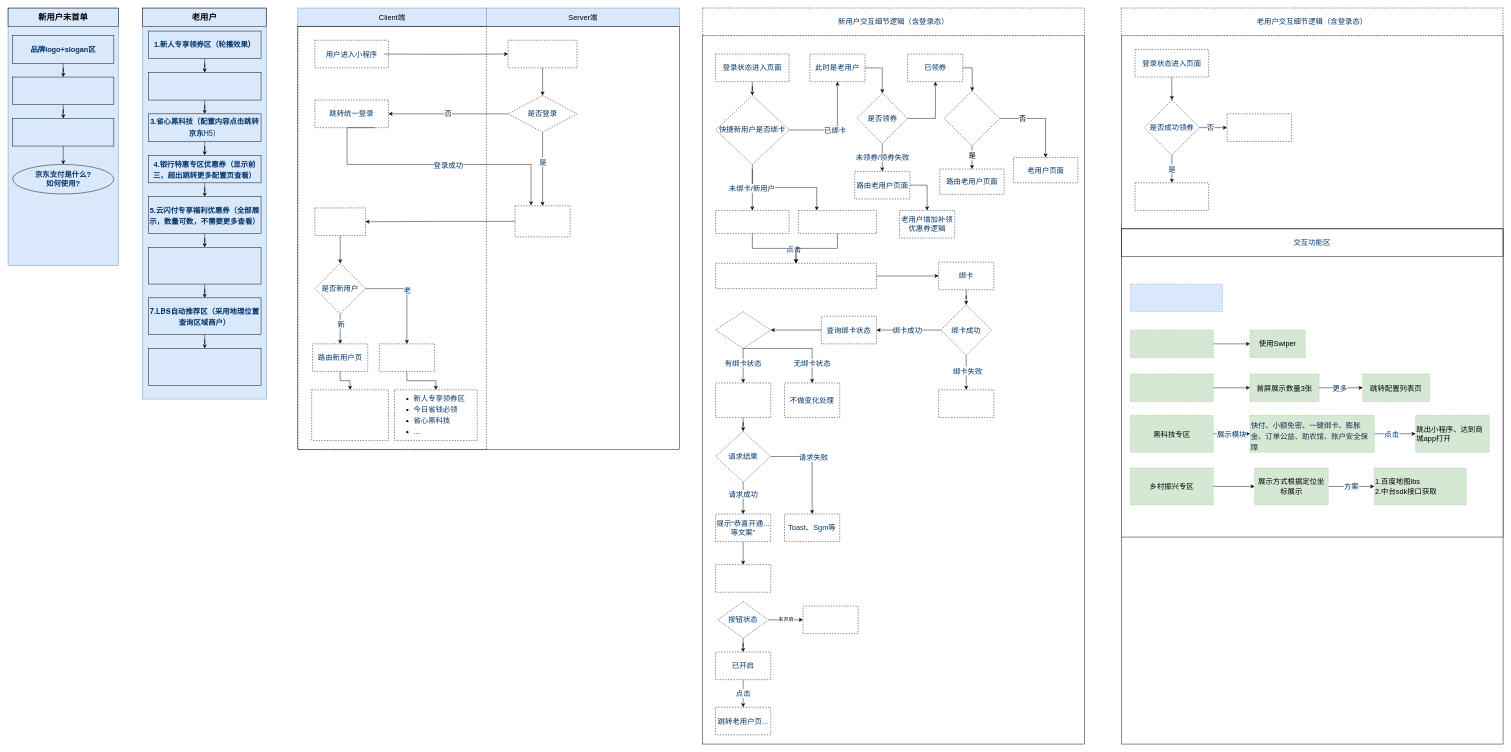
Image size: 1511x752. Some labels were removed from this diagram. Here are the shapes that lost their labels. From the top down, the centre of each, then its label:
At point 542,54: "校验是否登录".
At point 63,91: "引导开启京东支付".
At point 204,86: "2.今日省钱必领（左右滑动，分两行，每行 /6 列，超出查看更多）".
At point 63,132: "京东支付介绍页".
At point 972,118: "是否首单支付".
At point 1259,127: "补领优惠券模块".
At point 1172,196: "展示领取的优惠券".
At point 339,221: "获取用户标识".
At point 542,221: "下发用户标识".
At point 752,221: "展示“立即开启”按钮".
At point 837,221: "优惠券状态(开启领取)".
At point 204,265: "6.乡村振兴专区（广告轮播图）".
At point 796,276: "跳转绑卡页,引导开卡".
At point 1176,298: "图片加载方式（懒加载）".
At point 743,329: "是否绑卡成功".
At point 1171,344: "Banner图".
At point 204,366: "8.京东支付笔笔返京豆（广告轮播图）".
At point 406,357: "路由老用户页".
At point 743,399: "调用发放接口优惠券接口、按钮改为“已开启”".
At point 966,403: "绑卡页兜底处理".
At point 1171,388: "优惠券专区（银行优惠券、云闪付优惠券）".
At point 349,414: "品牌介绍 引导开启 京东支付介绍 如何使用...".
At point 743,578: "更新优惠券状态（去使用）".
At point 830,620: "跳转开通绑卡".
